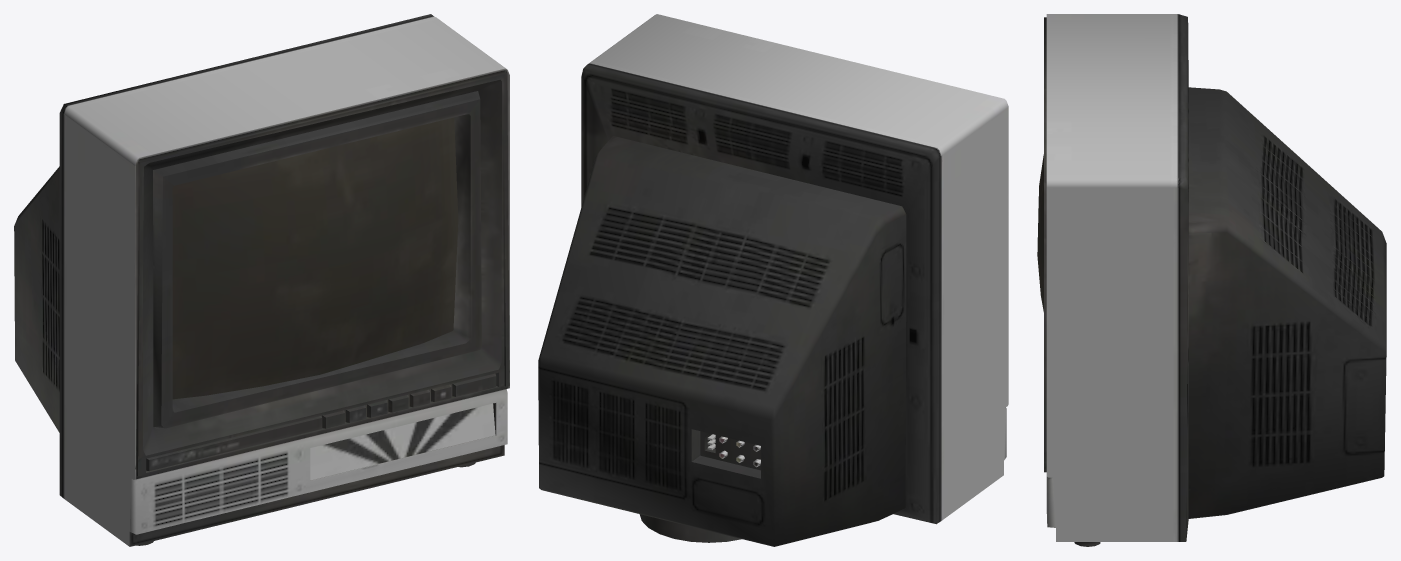
Rendered from television_02.glb.
3 views of the same model, side by side, from view 1: azimuth 30°, elevation 25°; view 2: azimuth 150°, elevation 25°; view 3: azimuth 270°, elevation 25° (orthographic). The views are drawn at different scales.
Parts seen in each view (by area): view 1: television_02; view 2: television_02; view 3: television_02.
Part boxes in pixels (x1=…): television_02: x1=14, y1=14, x2=509, y2=546; television_02: x1=538, y1=14, x2=1008, y2=546; television_02: x1=1037, y1=14, x2=1386, y2=546.
Size of the model in its own units: 0.3997 by 0.4108 by 0.3495.
1 material, 1 textured.
